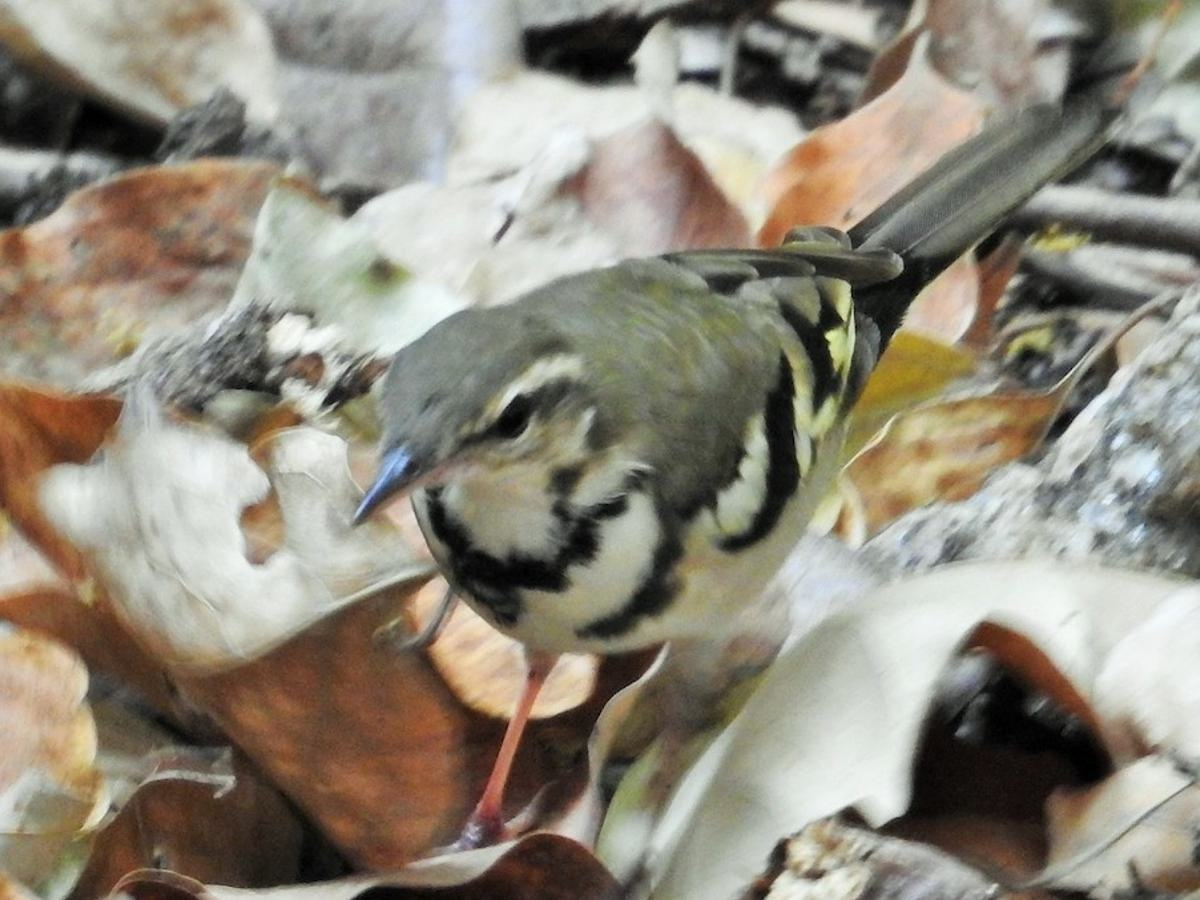wagtail: (356, 132, 1020, 816)
